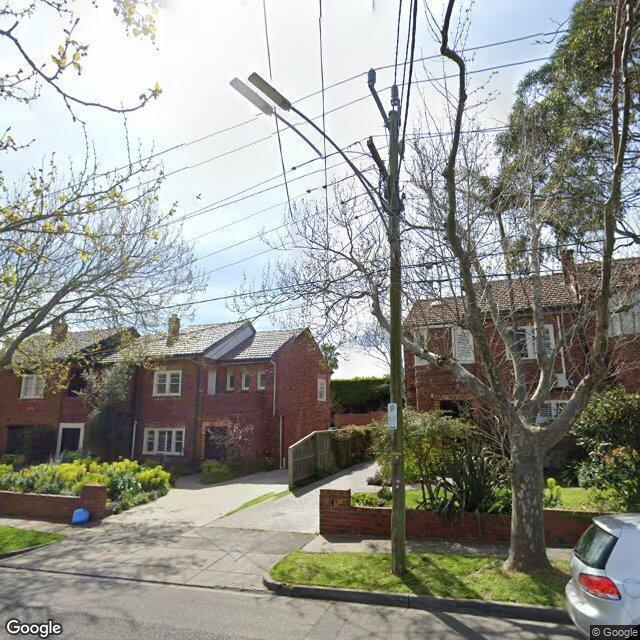HV-transmission: (368, 68, 404, 152)
crossarm: (368, 84, 403, 160), (367, 140, 404, 210)
streetlight: (229, 72, 392, 239)
timber-pole: (388, 110, 406, 576)
